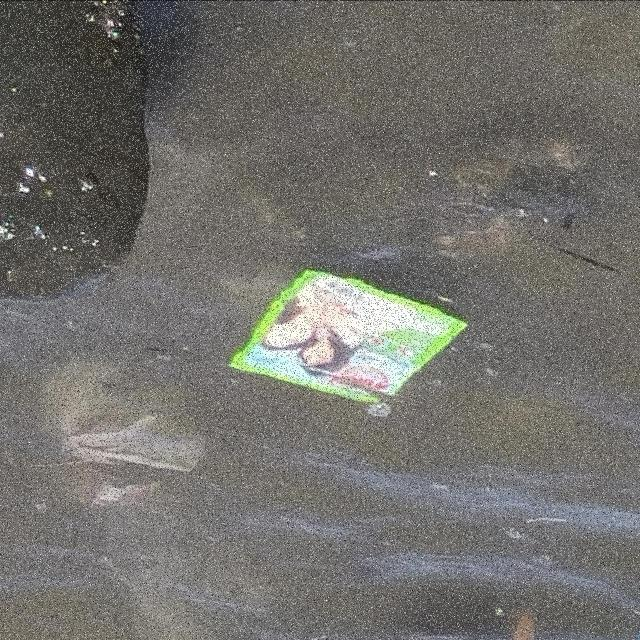plastic_waste: (227, 268, 473, 406)
